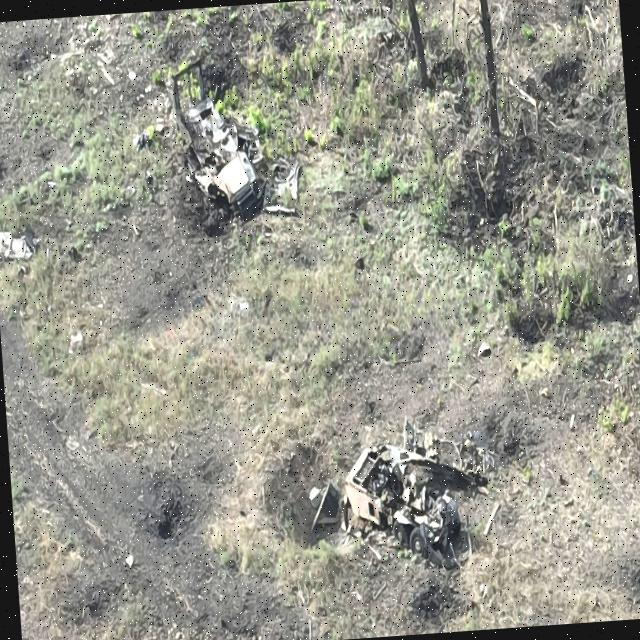Destroyed: (343, 432, 465, 566), (168, 59, 263, 222)
